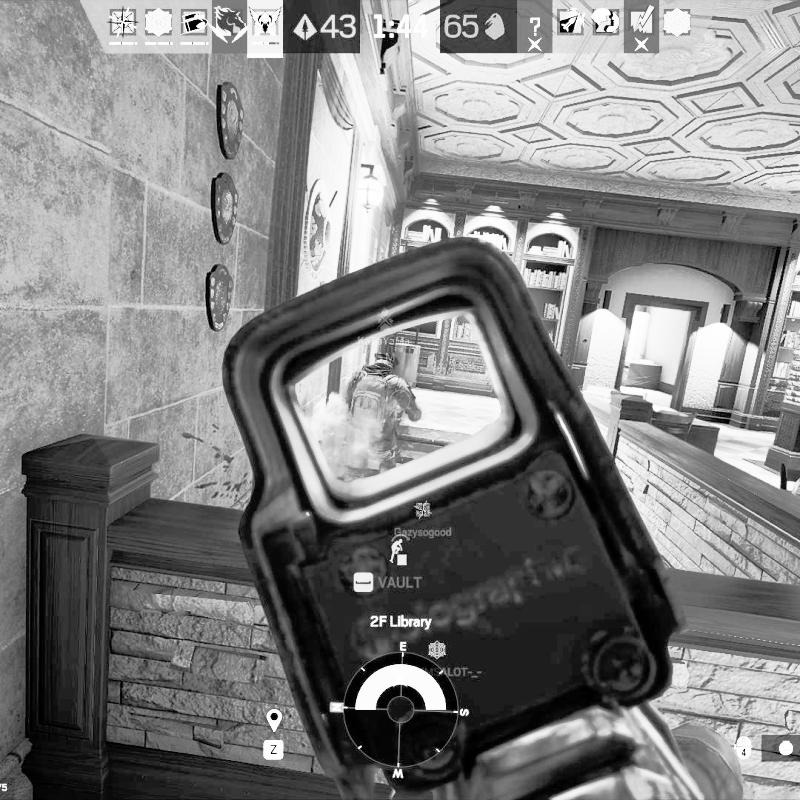Character: (340, 348, 424, 488)
Friend_label: (394, 638, 486, 680), (393, 499, 454, 539)
Head: (371, 348, 399, 371)
